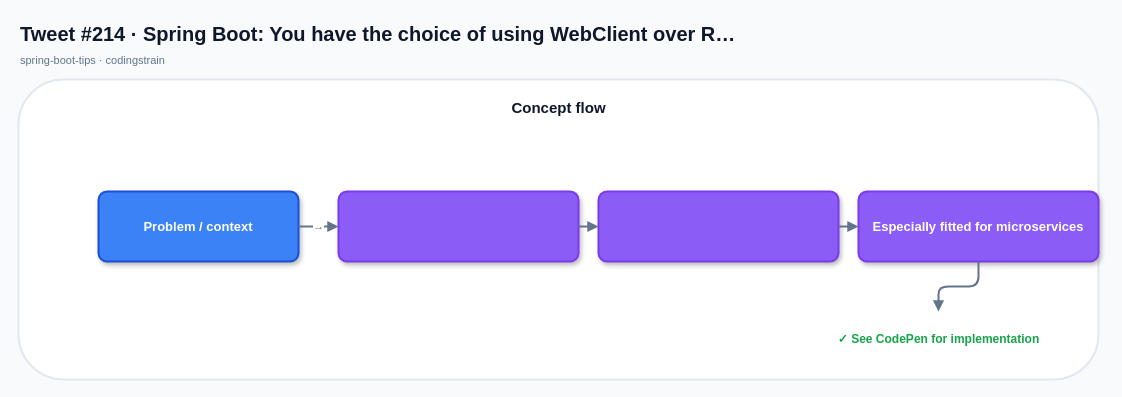
This 1122x397 diagram has some shape labels left out. The centre of each missing label's shape, as x and y in pixels:
"Based on event-loop instead of thread-per-request" goes at [719,227].
"It’s reactive and non-blocking" goes at [459,227].
